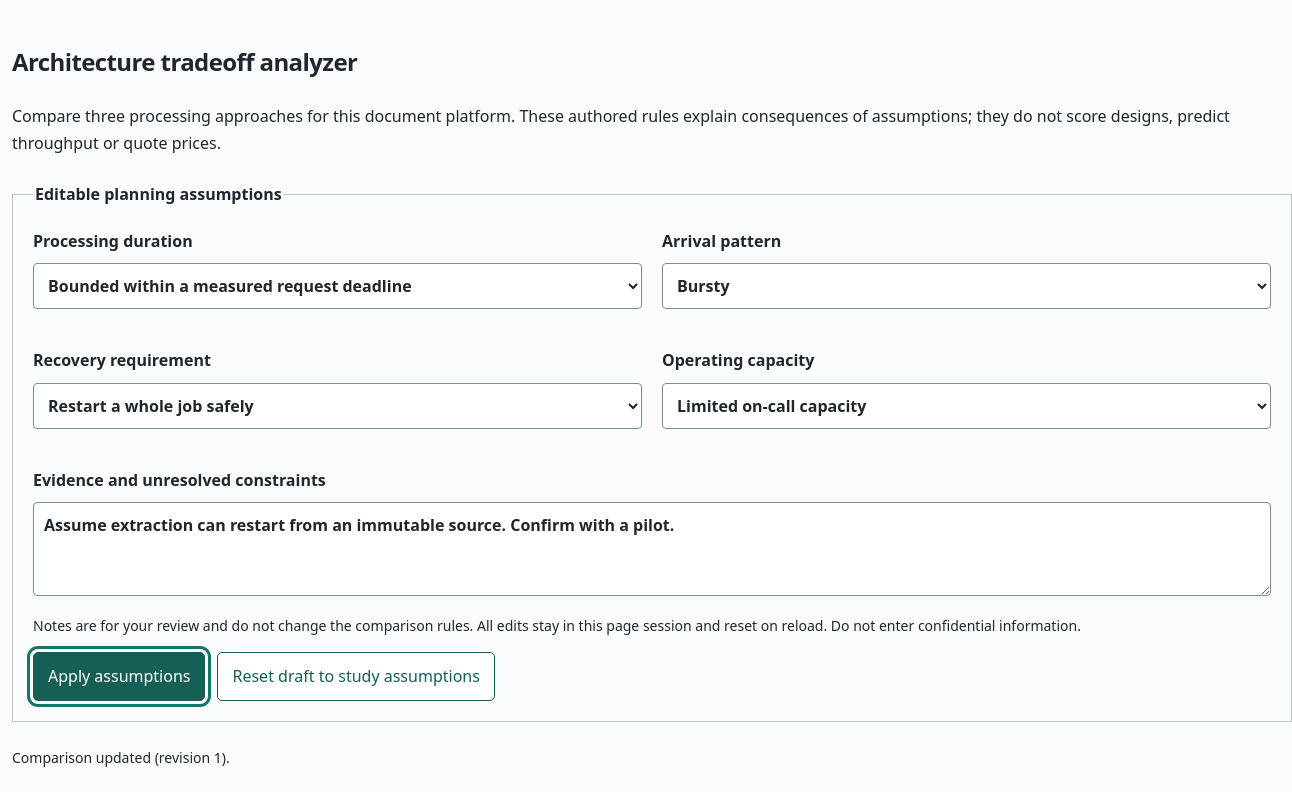
edits apply explicitly, unknown assumptions stay unresolved, and reset is a draft
Earlier steps of the test are not shown.
Select "Unknown; needs measurement" in the dropdown labelled "Processing duration". click: (338, 286)
box: [33, 264, 642, 310]
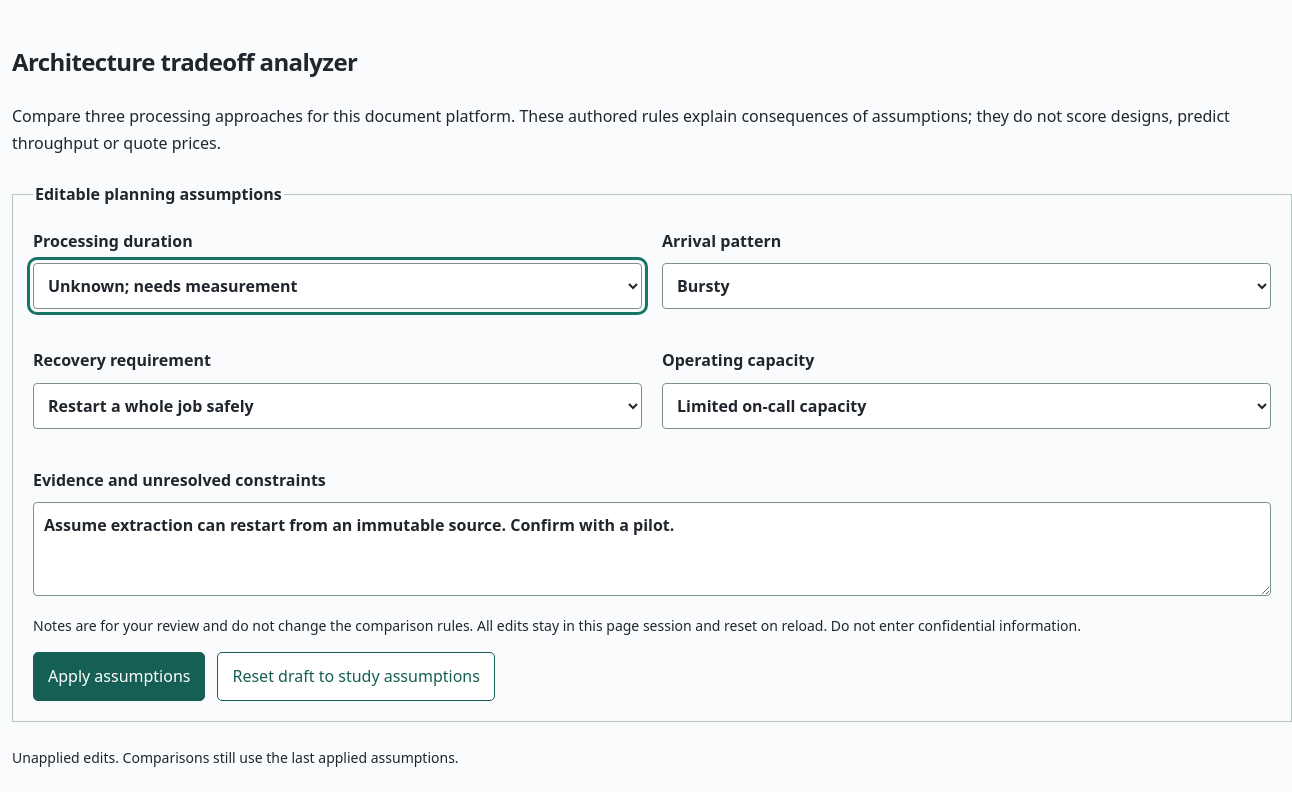
Select "Resume durable steps or compensate" in the dropdown labelled "Recovery requirement". click: (338, 406)
box: [33, 383, 642, 429]
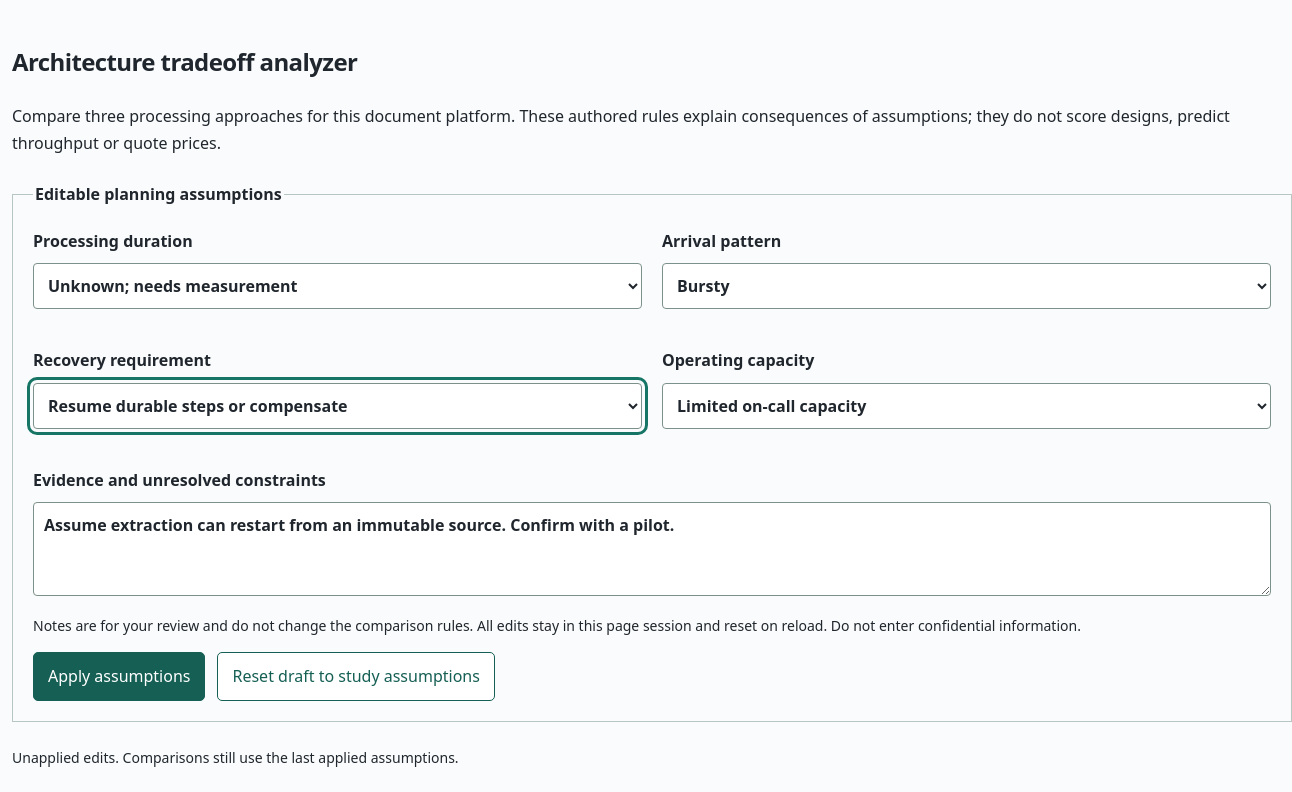
Clear the text box labelled "Evidence and unresolved constraints". click: (652, 549)
box: [33, 502, 1271, 596]
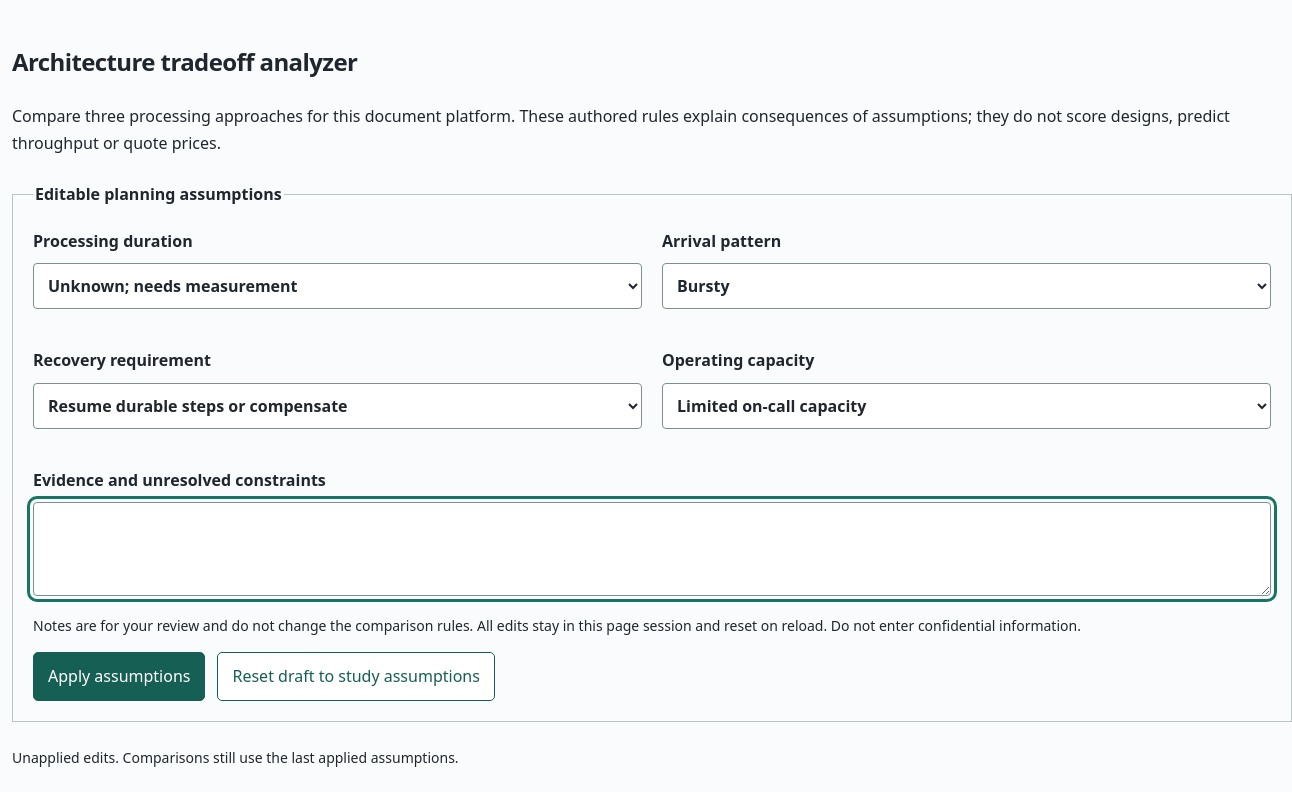
Click the button "Apply assumptions". click: (119, 676)
box: [33, 652, 206, 701]
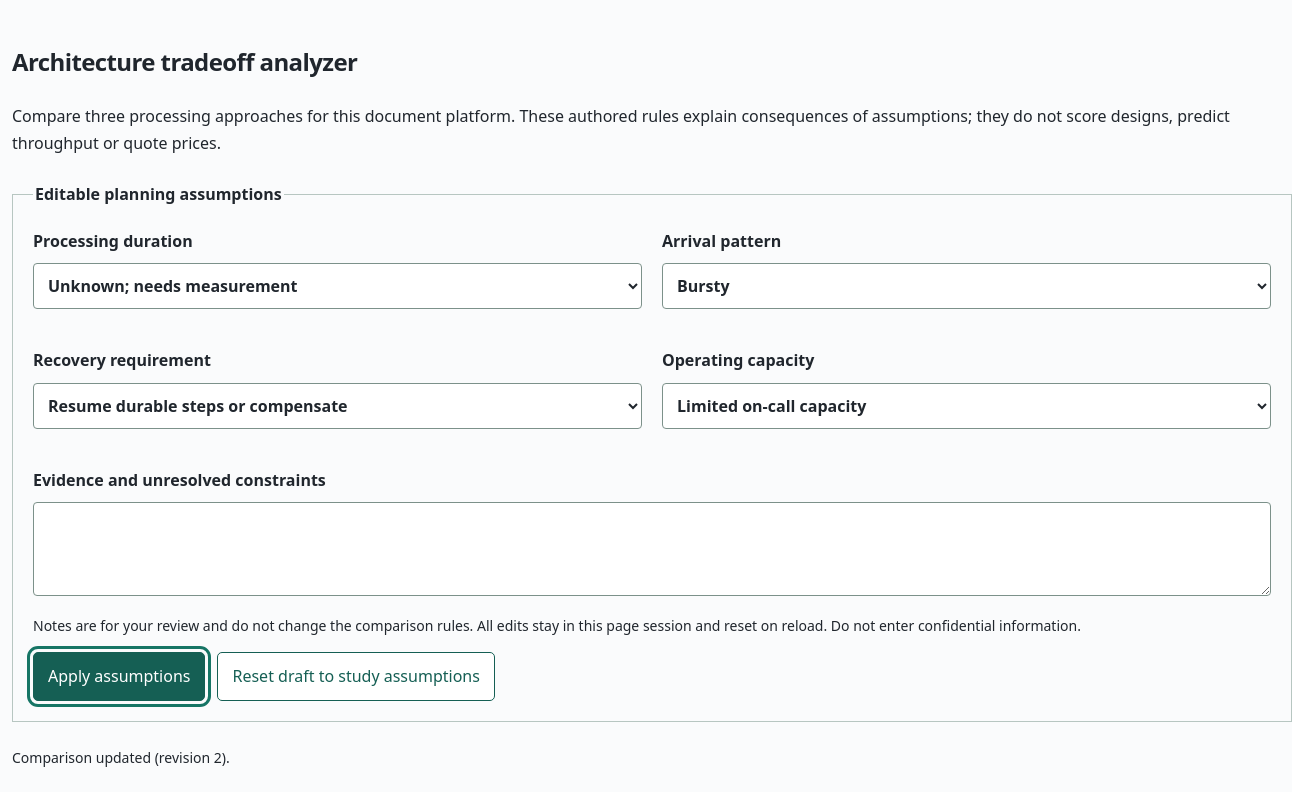
Click the button "Reset draft to study assumptions". click: (356, 676)
box: [218, 652, 495, 701]
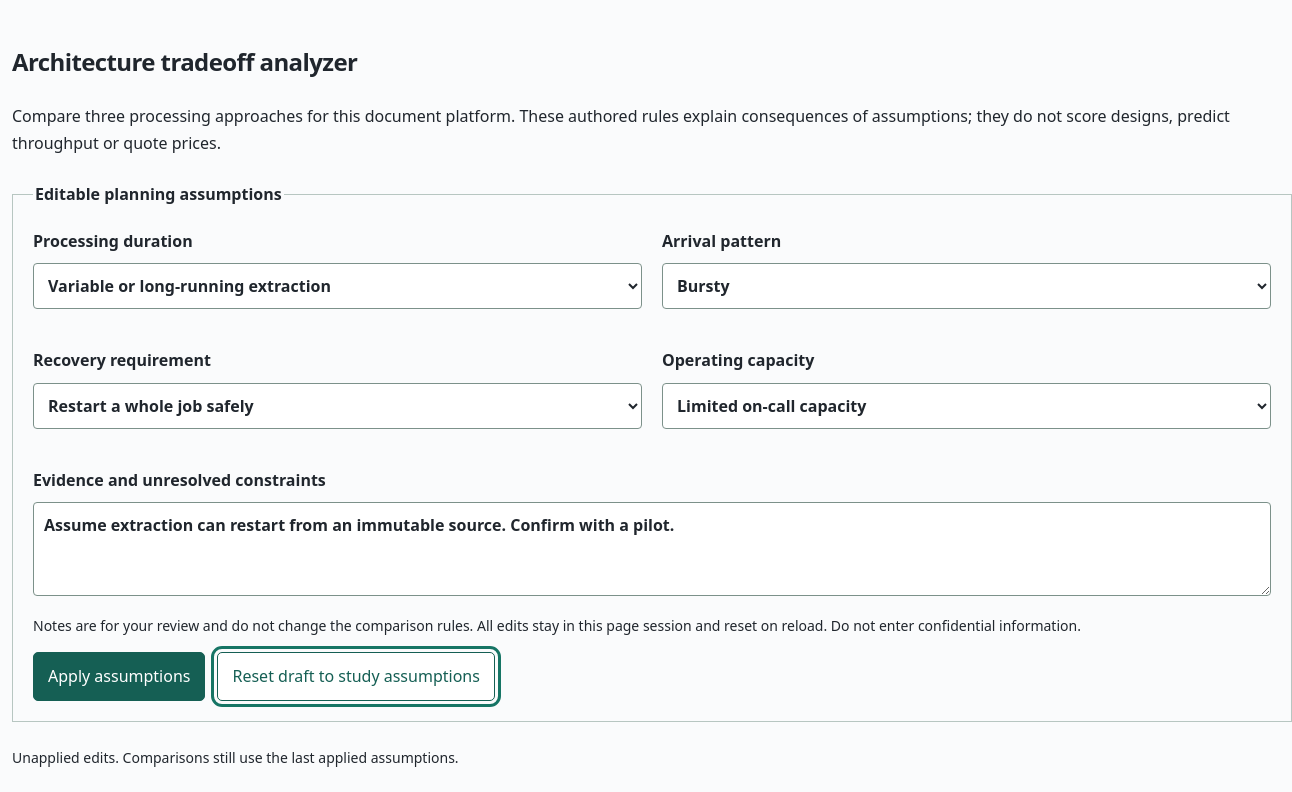
Click the button "Apply assumptions". click: (119, 676)
box: [33, 652, 206, 701]
(page scrolled)
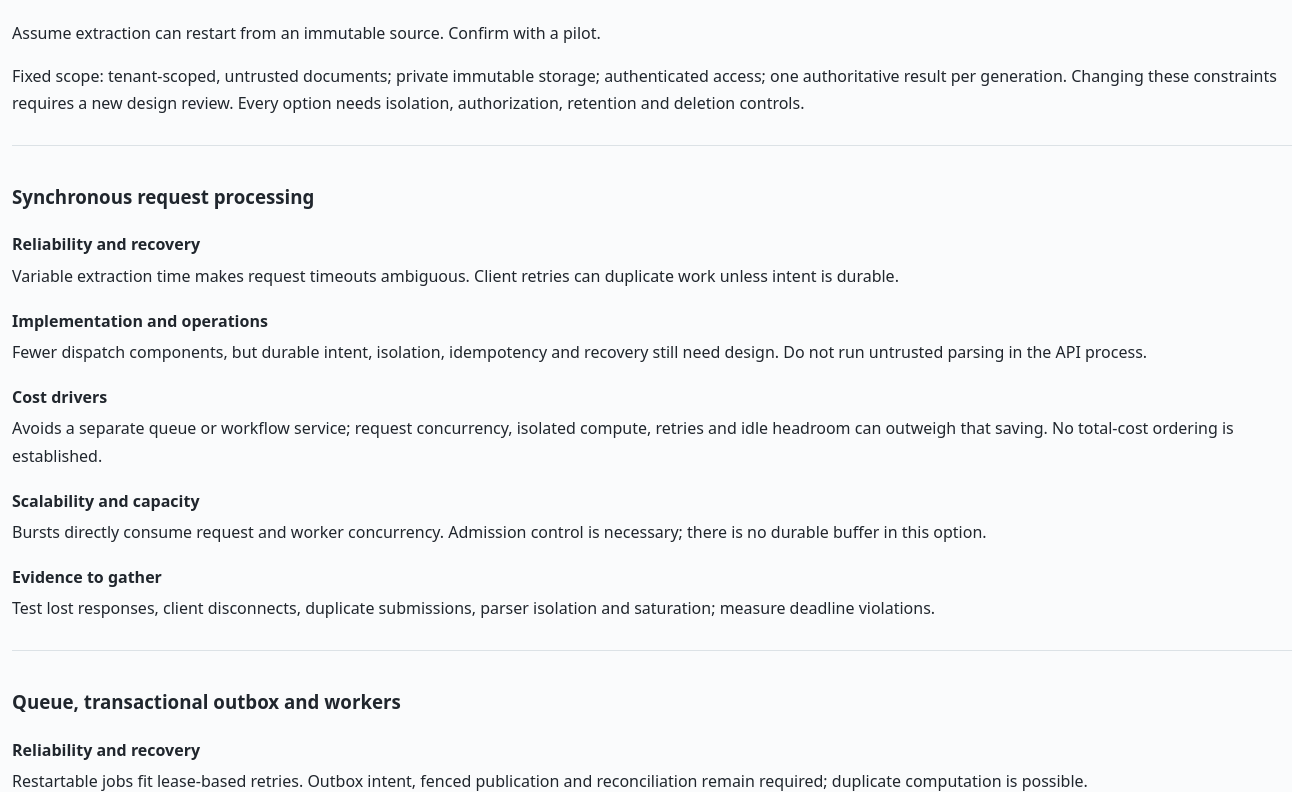
Expected: the text "Cost drivers" is shown, [12, 386, 107, 408]
Expected: the element "Synchronous request processing" shows "Variable extraction time", [12, 265, 899, 287]
